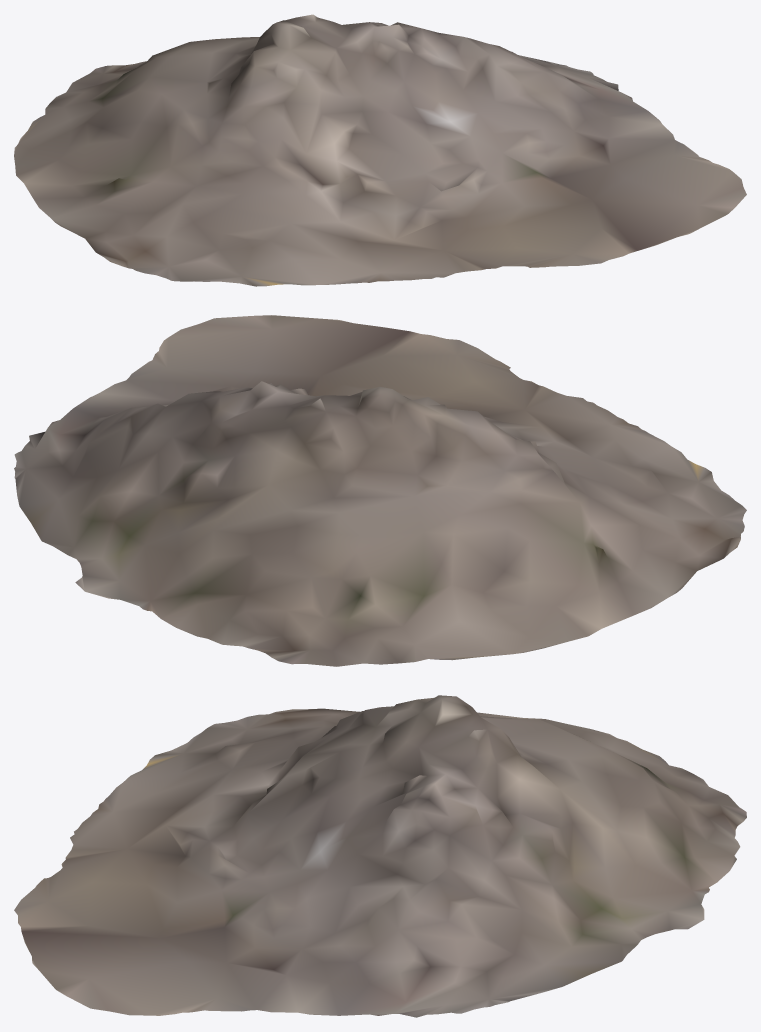
The model's file is SM_Pile01.fbx.
3 views of the same model, one above another, from view 1: azimuth 30°, elevation 25°; view 2: azimuth 150°, elevation 25°; view 3: azimuth 270°, elevation 25° (orthographic). The views are drawn at different scales.
Visible parts, largest first — view 1: SM_Pile01; view 2: SM_Pile01; view 3: SM_Pile01.
Boxes of the visible parts, left/top/right/bottom form: SM_Pile01: left=14, top=14, right=746, bottom=286; SM_Pile01: left=14, top=315, right=746, bottom=666; SM_Pile01: left=14, top=695, right=746, bottom=1017.
Bounding box in the file's own units: 593 × 130 × 594.
